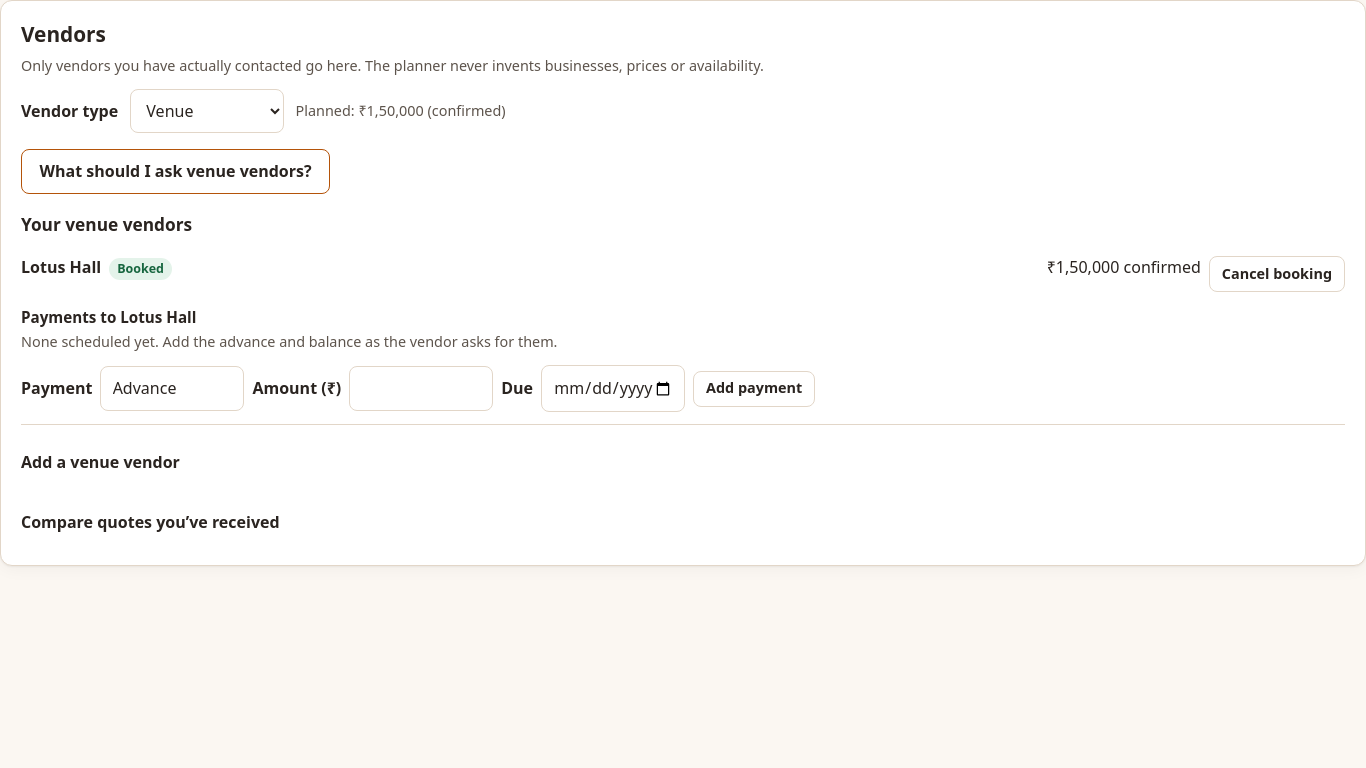
vendor payments › schedules a payment as a reported change, then readies the form for the balance
Replace the text in the field labelled "Payment" with "  Booking token " at (172,389), box [100, 366, 244, 411]
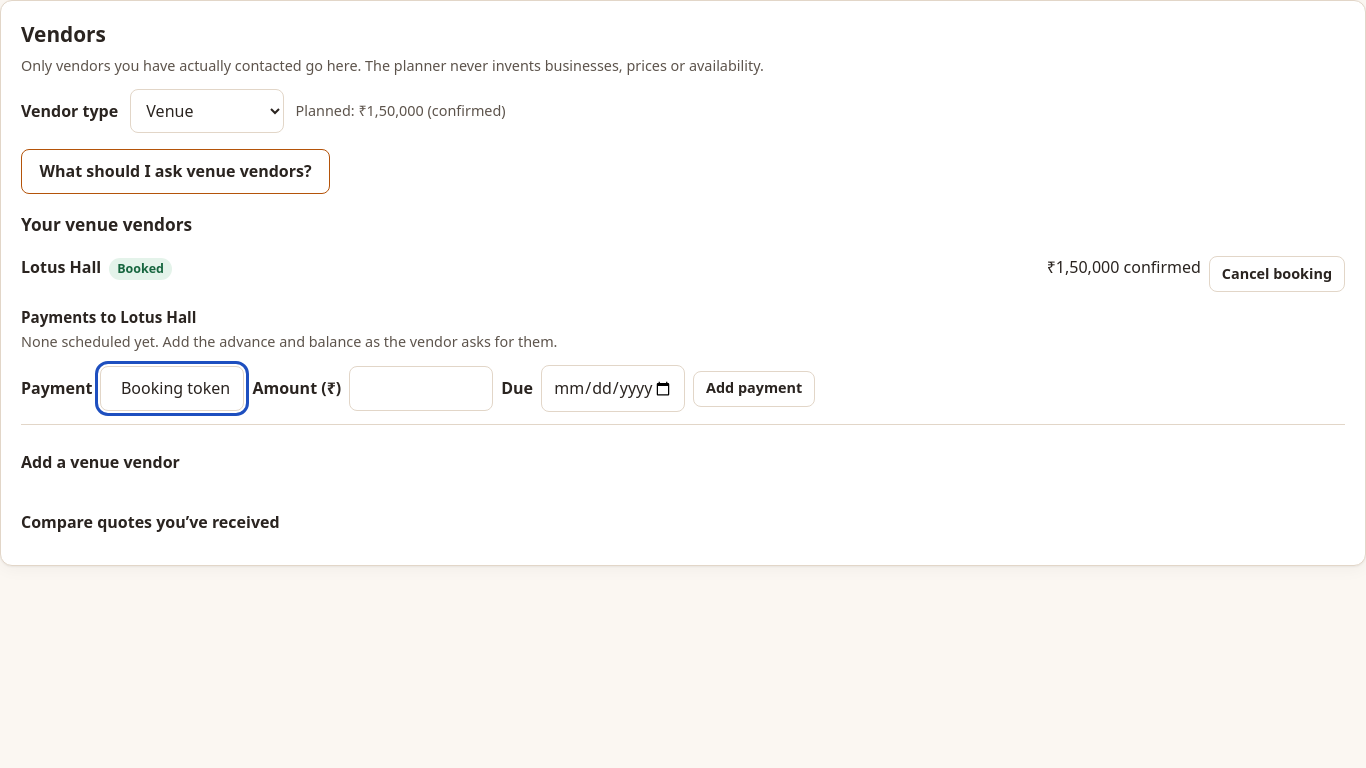
Type "50000" into the number field labelled "Amount (₹)" at (421,389), box [349, 366, 493, 411]
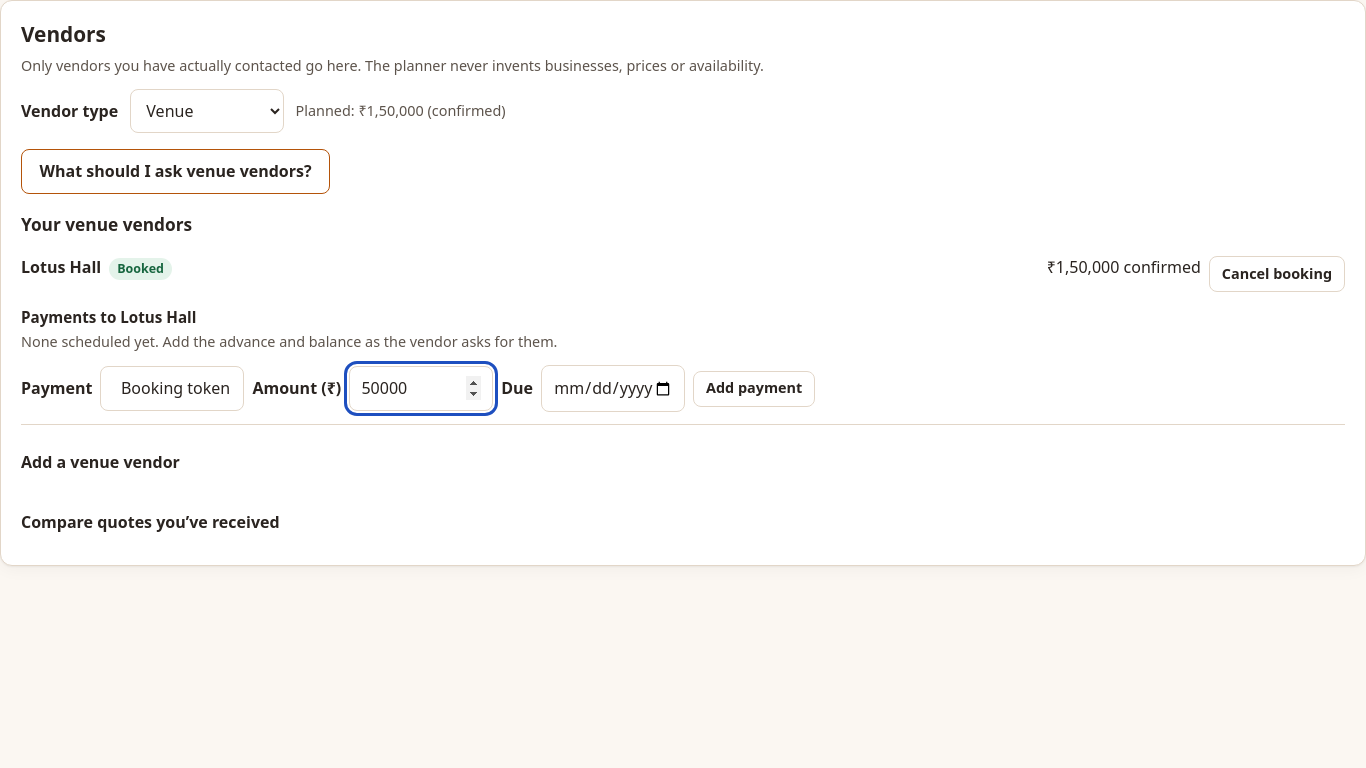
Type "2026-11-15" into the date field labelled "Due" at (613,389), box [541, 365, 685, 412]
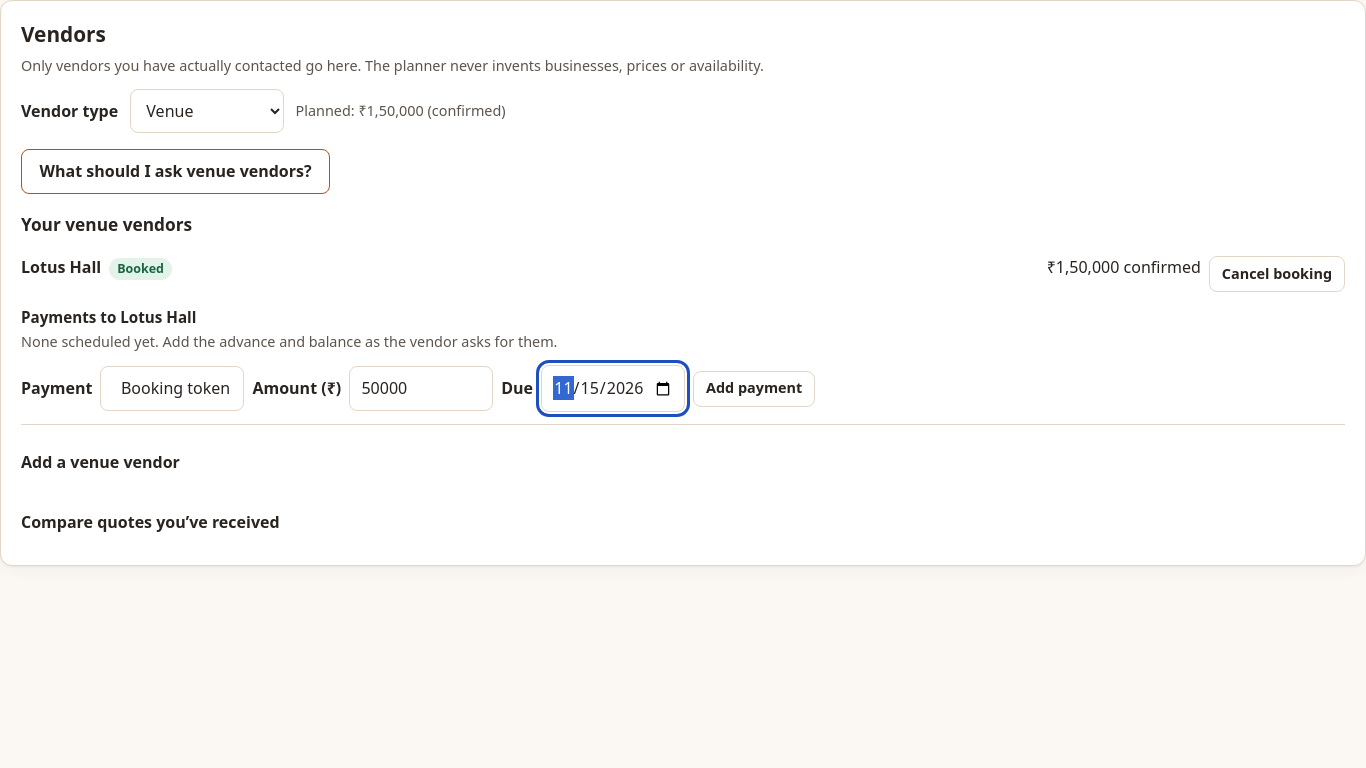
Click the button "Add payment" at (754,389), box [693, 371, 815, 407]
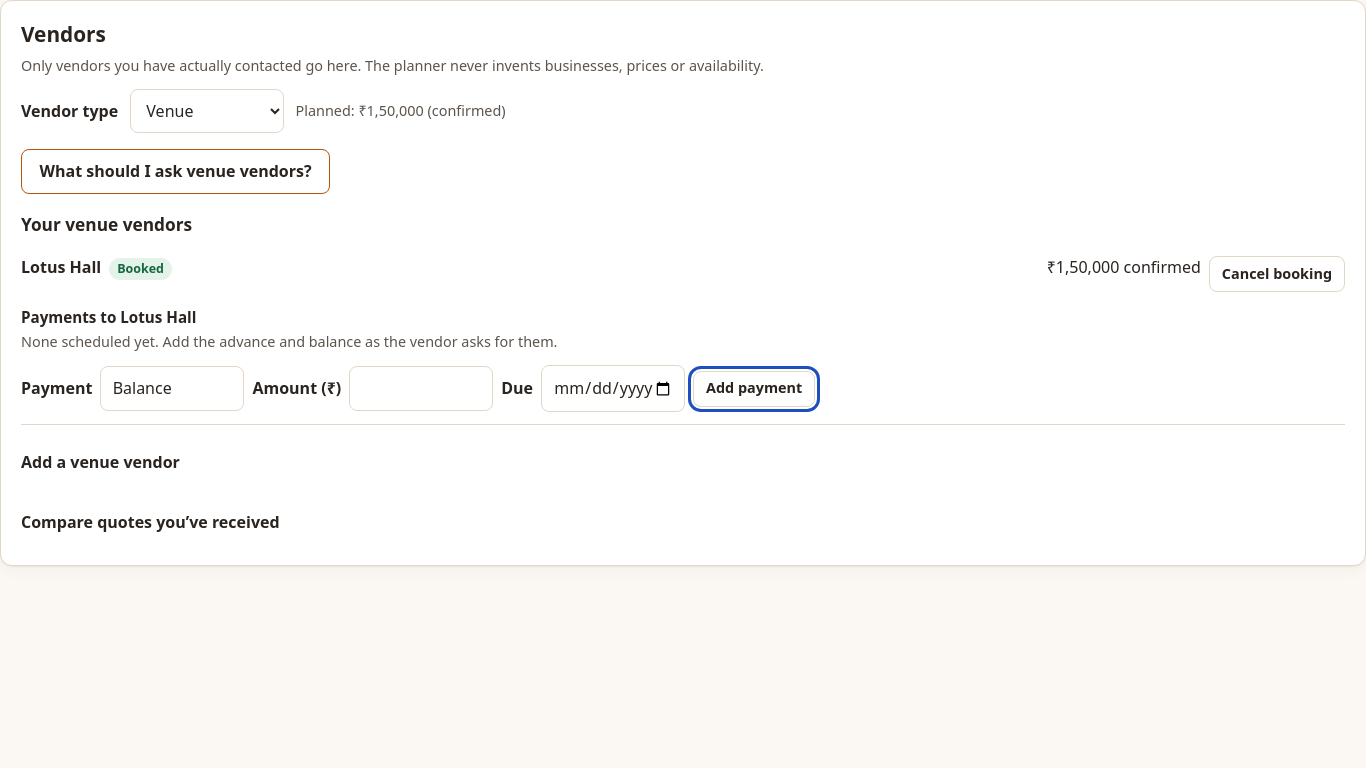
Now the field labelled "Payment" holds "Balance", box [100, 366, 244, 411]
Now the number field labelled "Amount (₹)" is not empty, box [349, 366, 493, 411]
